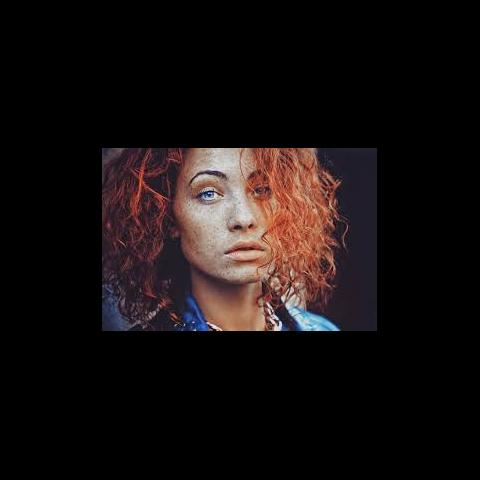opened: (181, 164, 292, 216)
